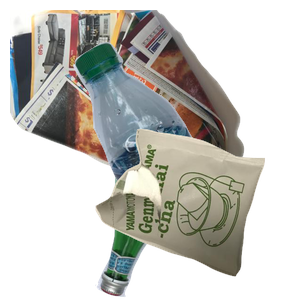glass: (93, 143, 284, 300)
paper: (10, 10, 250, 190)
plastic: (71, 39, 300, 219)
trash: (93, 126, 300, 300)
